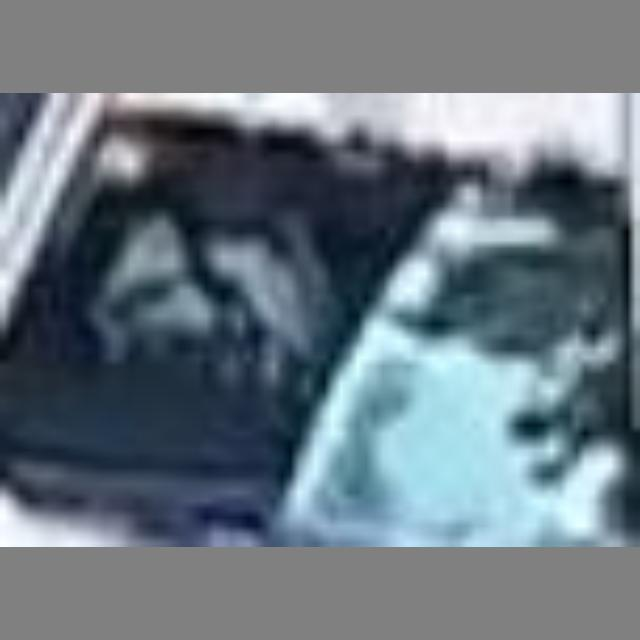pakai: (135, 160, 328, 413)
